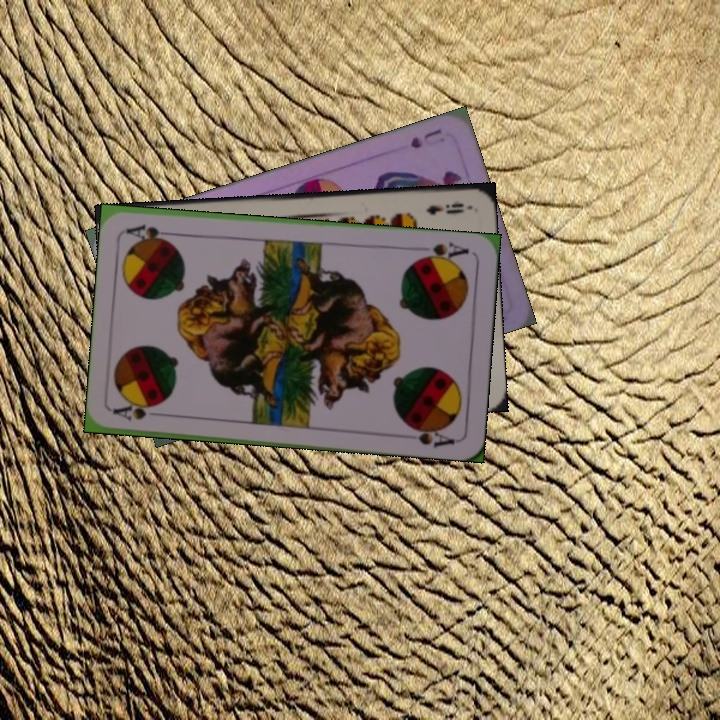E9: (422, 198, 467, 217)
SA: (413, 238, 472, 265), (110, 399, 169, 424)
SU: (406, 124, 448, 151)
